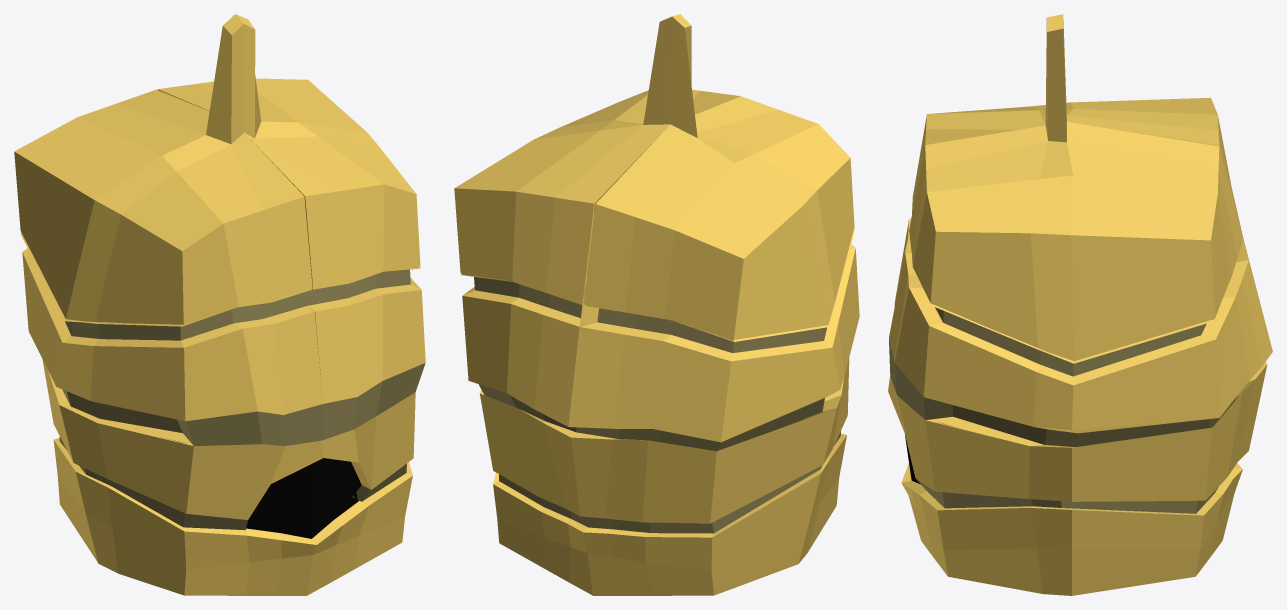
The model's file is BeeHive.fbx.
3 renders of one model, left to right at view 1: azimuth 30°, elevation 25°; view 2: azimuth 150°, elevation 25°; view 3: azimuth 270°, elevation 25°, orthographic.
Parts seen in each view (by area): view 1: Hive; view 2: Hive; view 3: Hive.
Part boxes in pixels (x1=…): Hive: x1=14, y1=14, x2=425, y2=595; Hive: x1=454, y1=14, x2=859, y2=595; Hive: x1=888, y1=14, x2=1272, y2=595.
Bounding box in the file's own units: 161 × 234 × 155.
